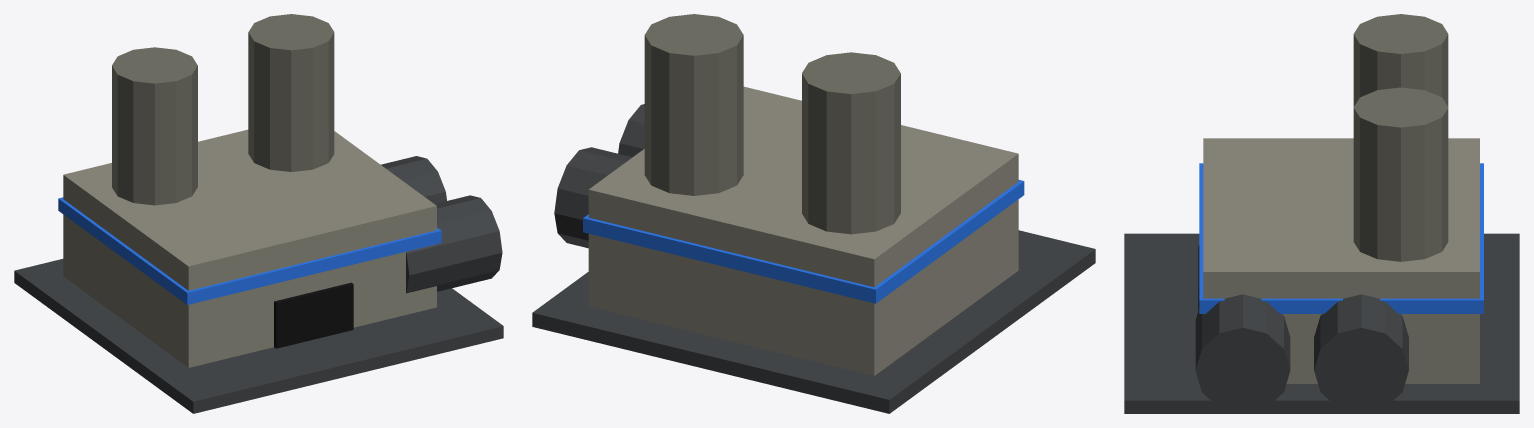
File: oil_field.glb
The picture shows the model from 3 angles, left to right: view 1: azimuth 30°, elevation 25°; view 2: azimuth 150°, elevation 25°; view 3: azimuth 270°, elevation 25°; orthographic projection. The views are drawn at different scales.
Visible parts, largest first — view 1: main, base, stack_1, stack_0, fuel_tank_0, team_band, door, fuel_tank_1; view 2: main, base, stack_1, stack_0, team_band, fuel_tank_1, fuel_tank_0; view 3: main, base, stack_1, fuel_tank_0, fuel_tank_1, stack_0, team_band.
Boxes of the visible parts, x1,y1,x2,y2 form: main: (63, 129, 436, 367); base: (14, 259, 503, 413); stack_1: (248, 14, 334, 171); stack_0: (112, 47, 197, 205); fuel_tank_0: (406, 195, 502, 293); team_band: (58, 197, 441, 304); door: (274, 282, 353, 348); fuel_tank_1: (381, 156, 446, 203); main: (588, 86, 1018, 375); base: (532, 230, 1095, 413); stack_1: (644, 14, 743, 195); stack_0: (802, 52, 900, 234); team_band: (583, 180, 1024, 303); fuel_tank_1: (554, 147, 632, 248); fuel_tank_0: (618, 104, 644, 157); main: (1203, 138, 1479, 383); base: (1124, 233, 1519, 413); stack_1: (1353, 87, 1448, 261); fuel_tank_0: (1195, 294, 1290, 413); fuel_tank_1: (1314, 294, 1408, 413); stack_0: (1353, 14, 1448, 106); team_band: (1199, 163, 1483, 313).
Bounding box in the file's own units: 8.8 × 5.8 × 8.
